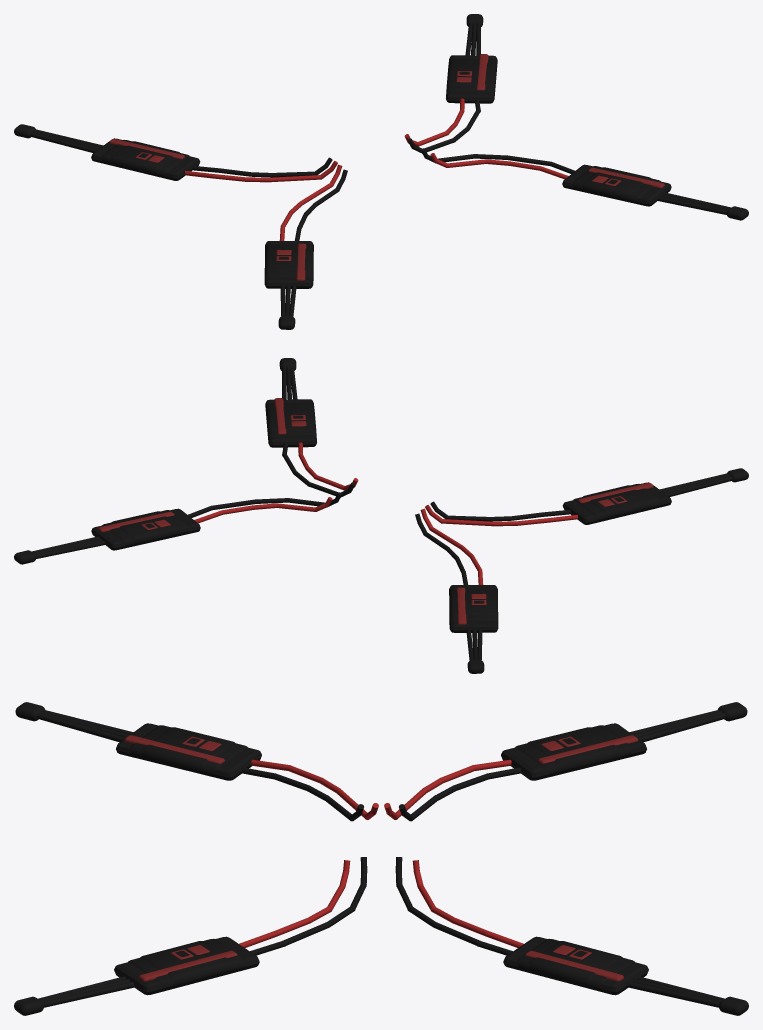
Rendered from controller4.dae.
The picture shows the model from 3 angles, top to bottom: view 1: azimuth 30°, elevation 25°; view 2: azimuth 150°, elevation 25°; view 3: azimuth 270°, elevation 25°; orthographic projection. The views are drawn at different scales.
Parts seen in each view (by area): view 1: Würfel.2 (×2), Würfel (×2), Würfel.1 (×2), Strich (×2), Kabel.1; view 2: Würfel.2 (×2), Würfel (×2), Würfel.1 (×2), Strich (×2), Kabel.1; view 3: Würfel.2 (×2), Würfel (×2), Würfel.1 (×2), Kabel.2 (×2), Strich (×2), Schrumpfschlauch_Motor (×2), Kabel (×2), Kabel.1 (×2), Kabel.8.
Boxes of the visible parts, bbox=[...] form: Würfel.2 (×2): bbox=[111, 62, 651, 273]; Würfel (×2): bbox=[91, 55, 671, 288]; Würfel.1 (×2): bbox=[101, 59, 660, 279]; Strich (×2): bbox=[109, 54, 664, 280]; Kabel.1: bbox=[465, 23, 727, 214]; Würfel.2 (×2): bbox=[111, 406, 651, 617]; Würfel (×2): bbox=[91, 399, 671, 632]; Würfel.1 (×2): bbox=[102, 403, 661, 623]; Strich (×2): bbox=[98, 398, 653, 624]; Kabel.1: bbox=[35, 367, 297, 558]; Würfel.2 (×2): bbox=[140, 727, 622, 984]; Würfel (×2): bbox=[114, 723, 648, 995]; Würfel.1 (×2): bbox=[128, 725, 634, 987]; Kabel.2 (×2): bbox=[37, 713, 725, 1007]; Strich (×2): bbox=[124, 735, 638, 981]; Schrumpfschlauch_Motor (×2): bbox=[14, 702, 748, 1015]; Kabel (×2): bbox=[40, 711, 722, 1001]; Kabel.1 (×2): bbox=[38, 710, 724, 999]; Kabel.8: bbox=[283, 922, 479, 945].
Size of the model in its own units: 588 by 29.2 by 595.
